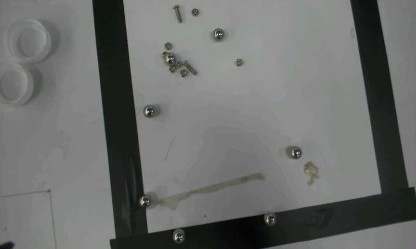ironball: (172, 228, 185, 243), (263, 212, 276, 226), (212, 27, 224, 39), (138, 195, 149, 208), (143, 105, 154, 117), (290, 146, 301, 158), (164, 54, 175, 63)
